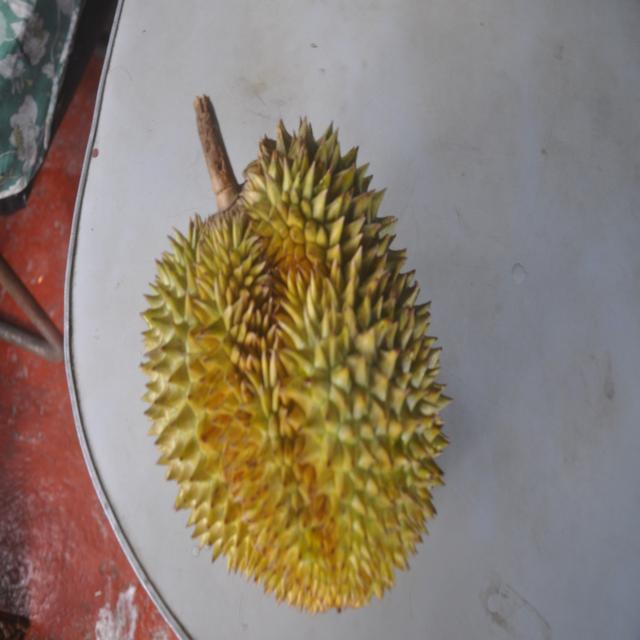mature: (137, 106, 447, 613)
